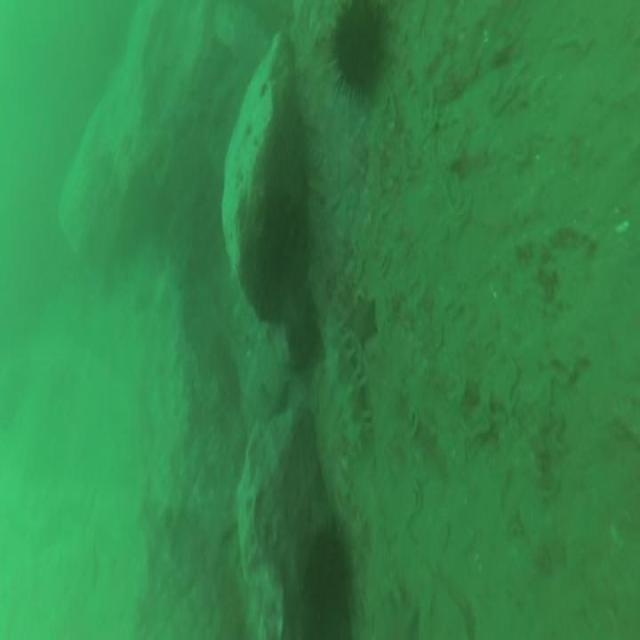echinus: (299, 524, 354, 640), (333, 2, 383, 93)
holothurian: (316, 316, 369, 455)
